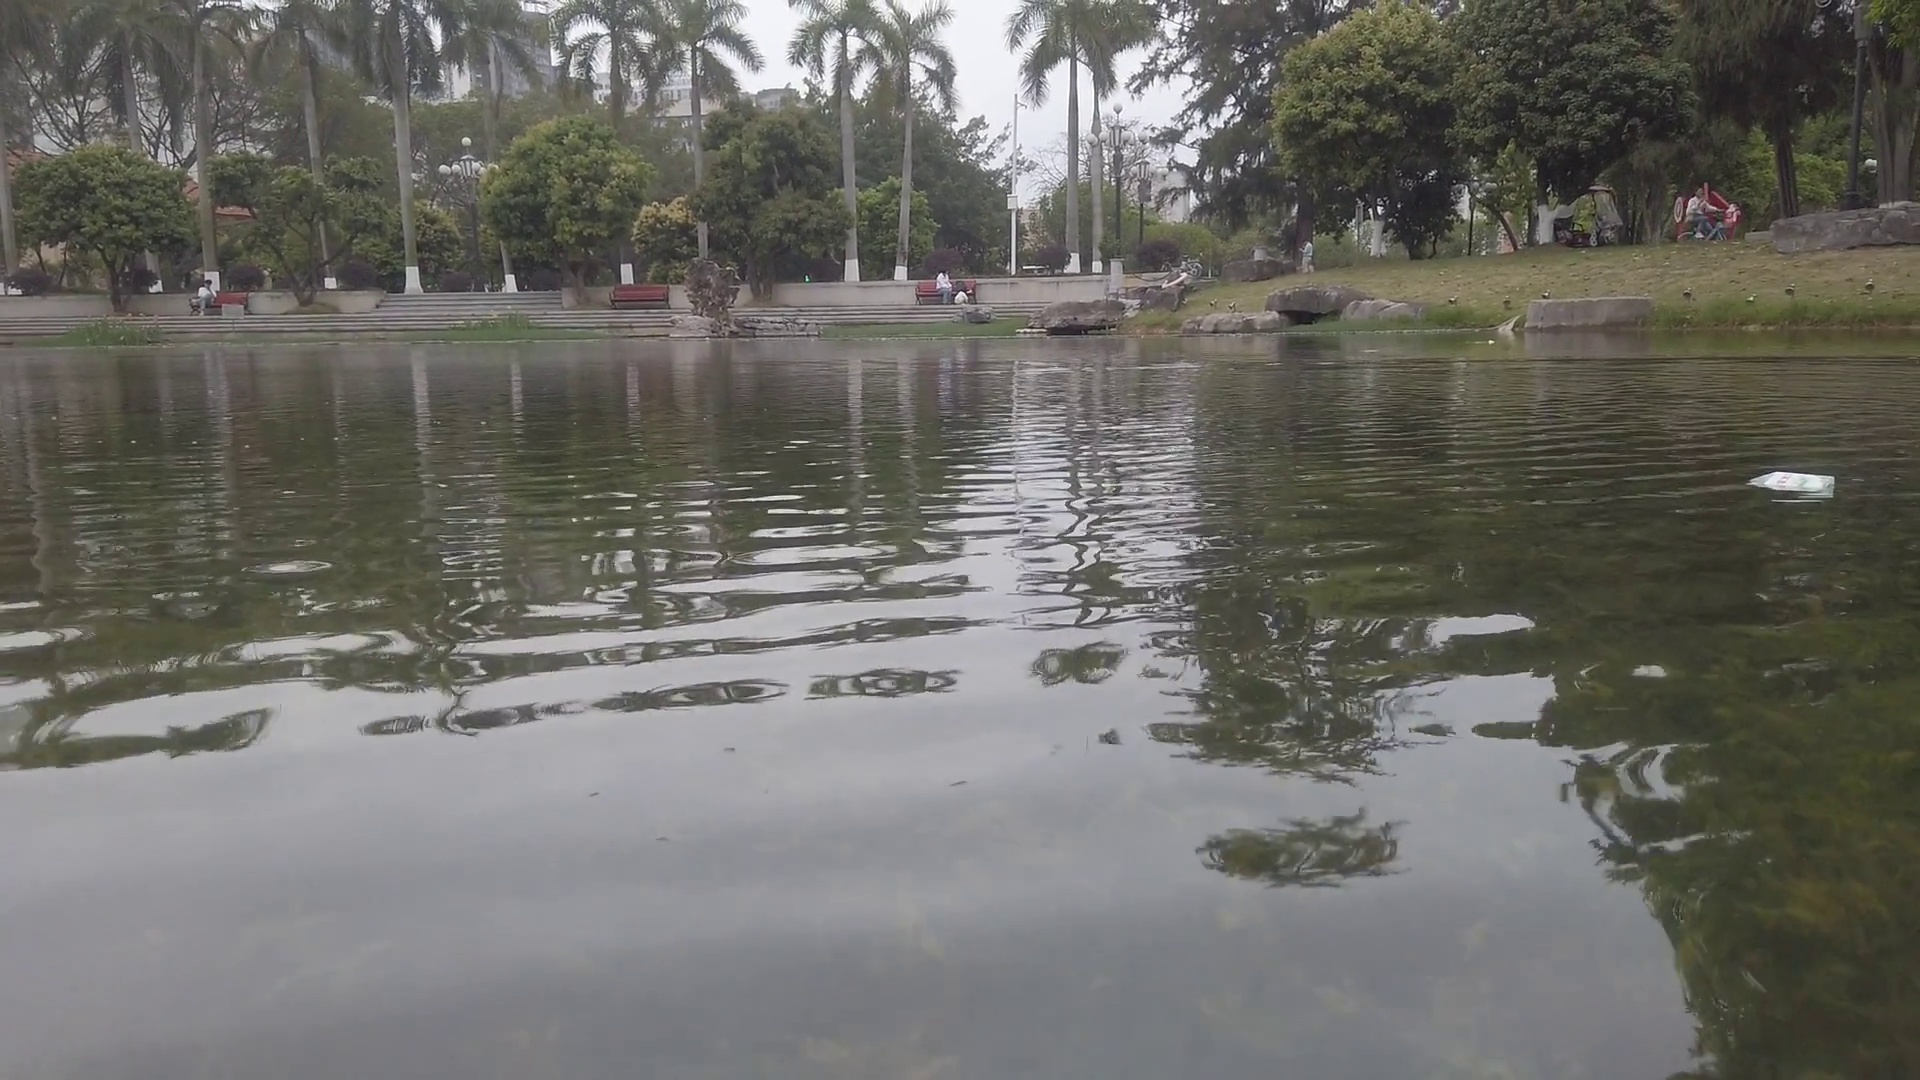carton: (1749, 469, 1846, 502)
